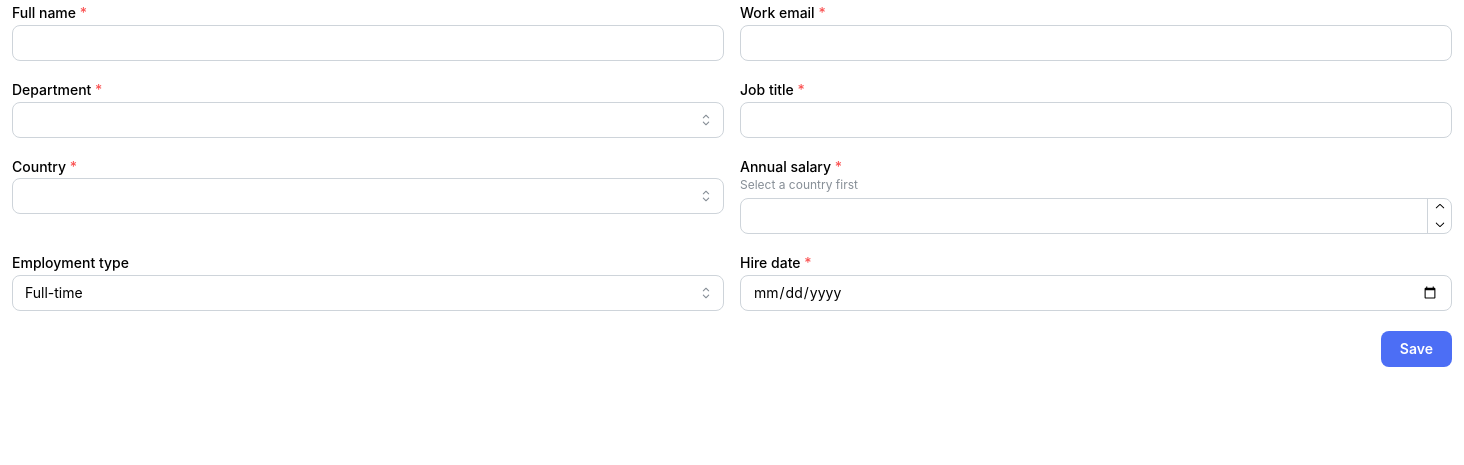
Test: EmployeeForm › blocks submission and shows errors when required fields are empty
What coordinates should you click on to do the following:
click the button "Save"
I would click on:
 (1416, 349)
Its box is [1381, 331, 1452, 367].
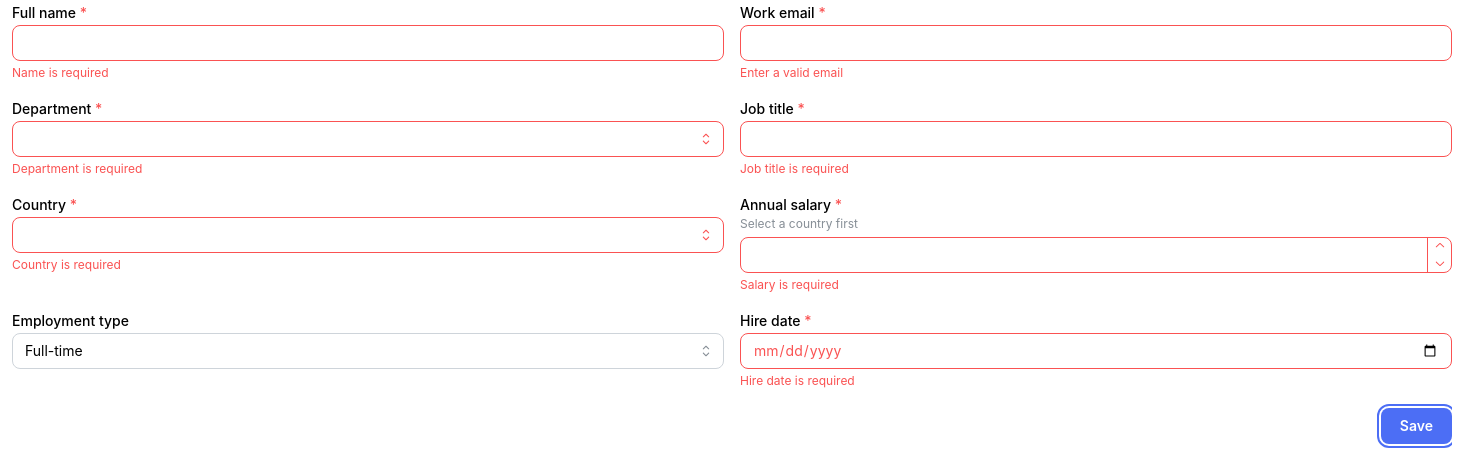
Now the text "Name is required" is shown, box [12, 65, 109, 80]
Now the text "Salary is required" is shown, box [740, 277, 839, 292]
